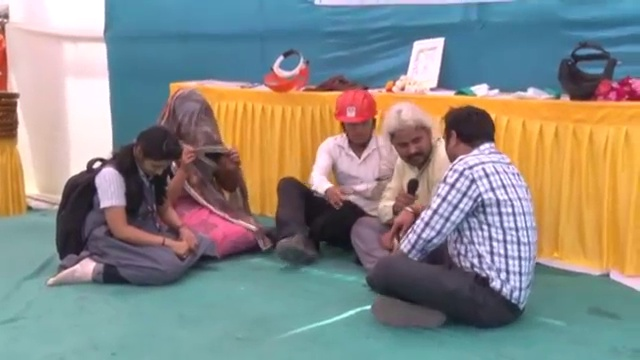helmet: (332, 88, 380, 126)
helmet_off: (164, 91, 224, 170), (435, 105, 501, 167), (383, 104, 438, 170), (127, 126, 177, 182)
helmet_on: (331, 87, 380, 151)
person: (365, 103, 538, 326), (49, 119, 198, 291), (253, 88, 394, 262), (154, 84, 266, 266), (350, 102, 457, 273)
